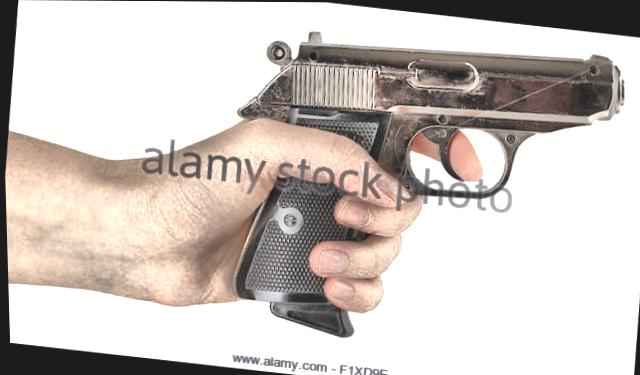pistol: (208, 13, 637, 356)
